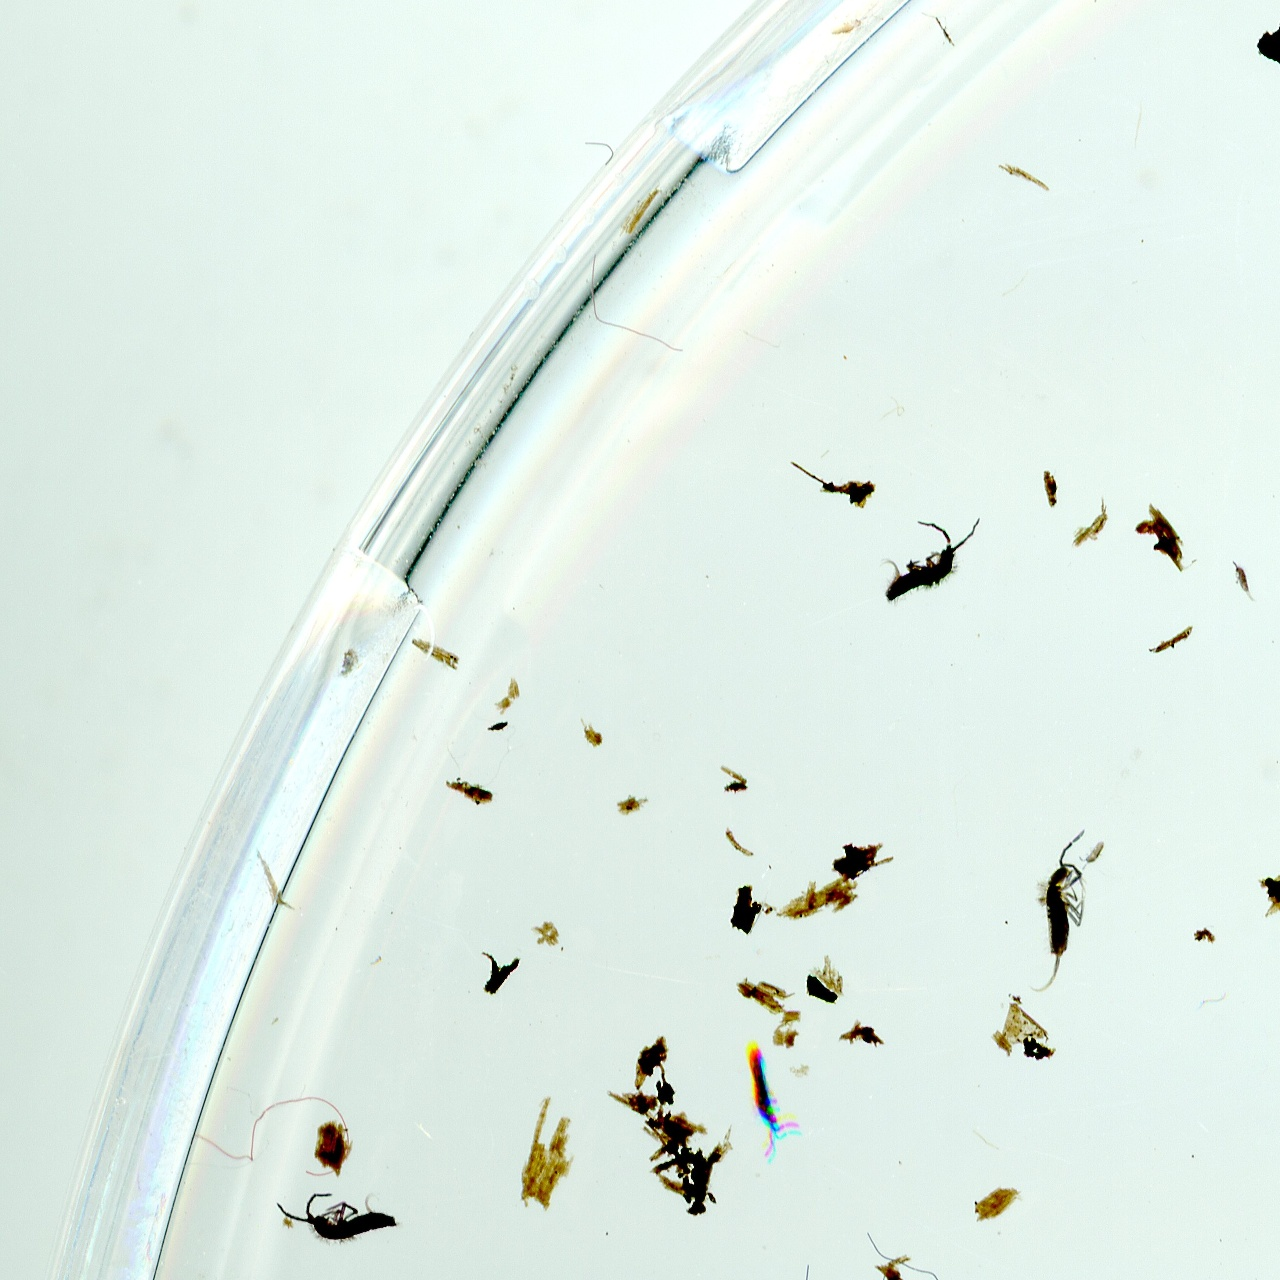arthropod: (855, 491, 1006, 618), (727, 1026, 811, 1167), (1024, 828, 1087, 996), (274, 1189, 406, 1247), (1221, 552, 1266, 614), (1076, 833, 1109, 874)
